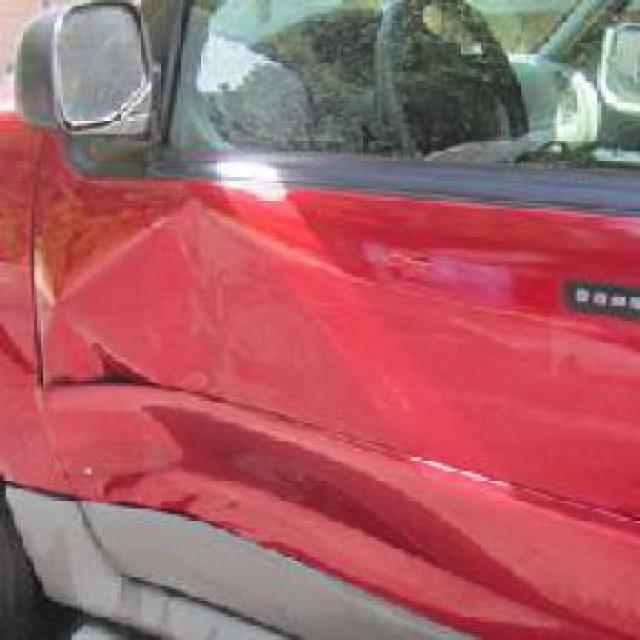damaged-door: (48, 5, 638, 638)
